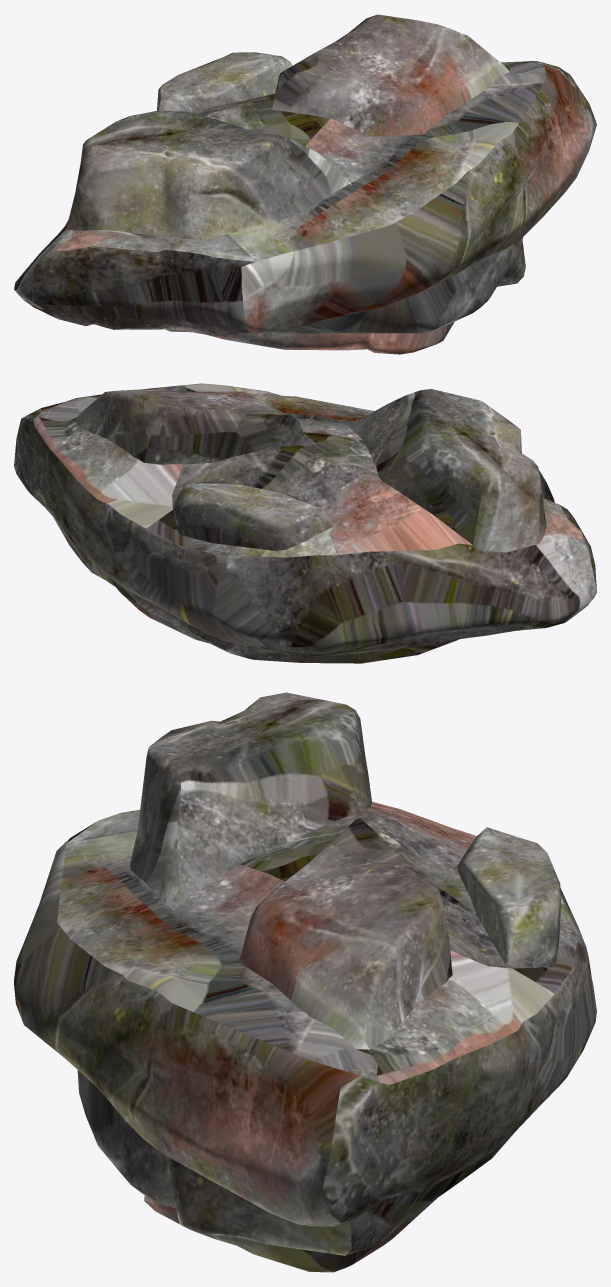
3 renders of one model, top to bottom at view 1: azimuth 30°, elevation 25°; view 2: azimuth 150°, elevation 25°; view 3: azimuth 270°, elevation 25°, orthographic. The views are drawn at different scales.
Parts seen in each view (by area): view 1: SM_Mining_Node_Medium_Iron_03_LOD0; view 2: SM_Mining_Node_Medium_Iron_03_LOD0; view 3: SM_Mining_Node_Medium_Iron_03_LOD0.
Boxes of the visible parts, x1,y1,x2,y2 form: SM_Mining_Node_Medium_Iron_03_LOD0: (14,14,596,354); SM_Mining_Node_Medium_Iron_03_LOD0: (14,383,596,663); SM_Mining_Node_Medium_Iron_03_LOD0: (14,692,596,1272).
Size of the model in its own units: 3.59 by 1.47 by 2.19.
